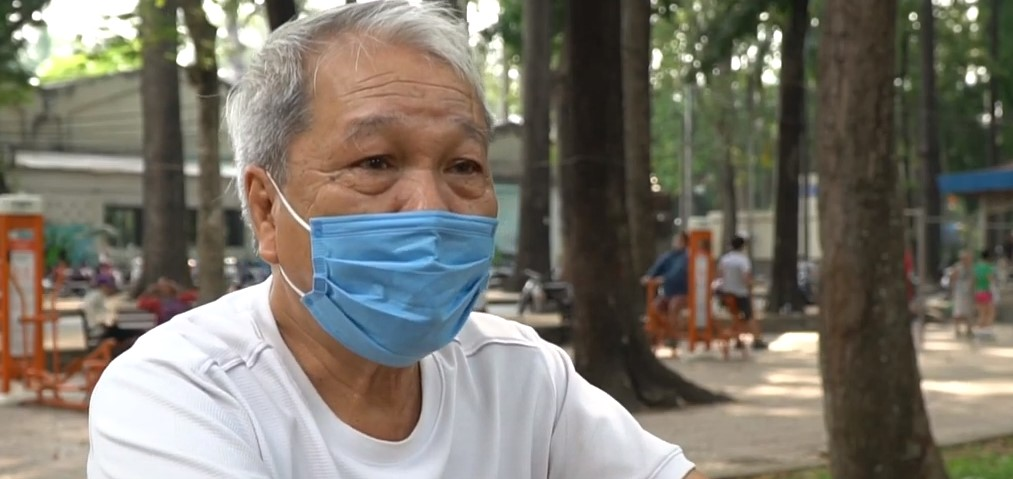face_with_mask: (237, 10, 499, 370)
